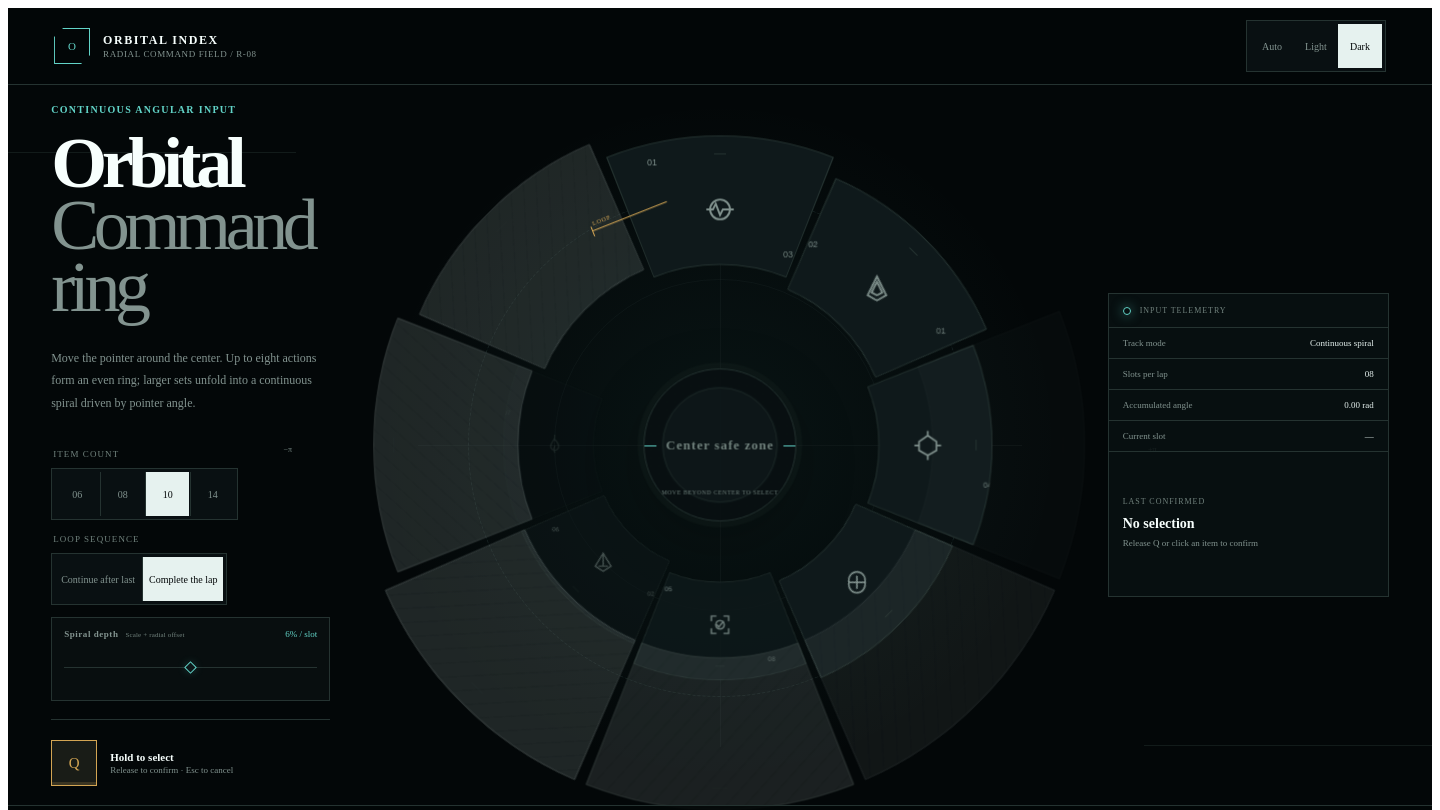
it: RadialMenuPage › uses Even ring for 06 items and pads it with 2 blank slots
Click the button "06": (77, 494) x1=55 y1=472 x2=99 y2=516
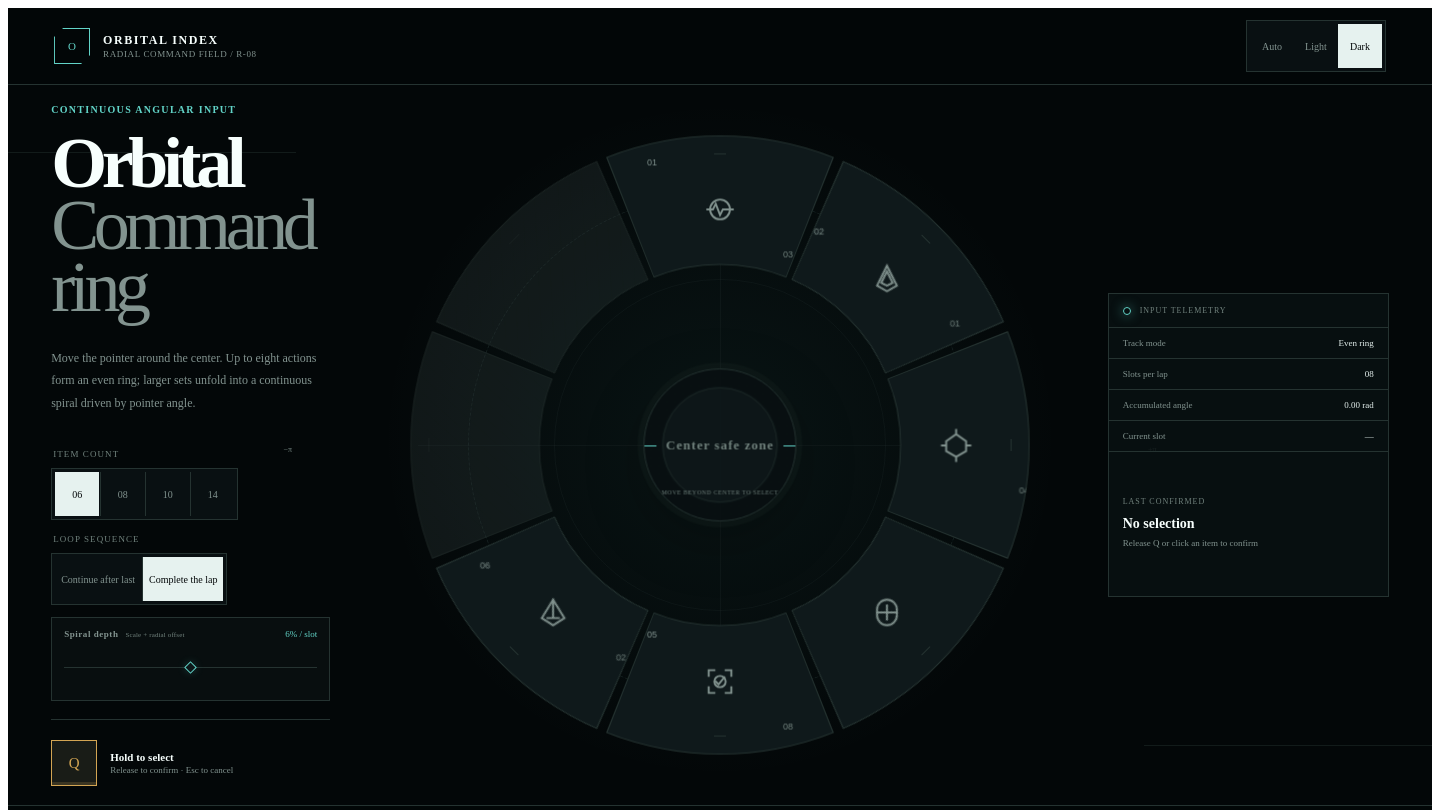
Now the text "Even ring" is shown, box x1=1338 y1=338 x2=1374 y2=348
